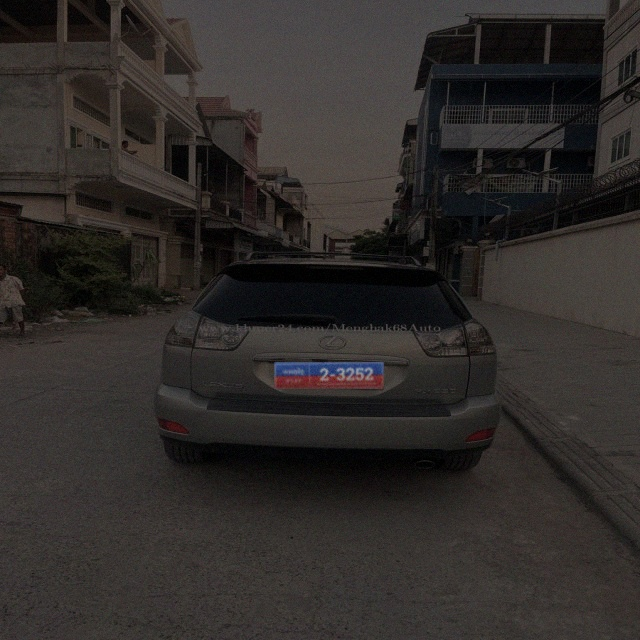Plate Number: (274, 363, 384, 389)
